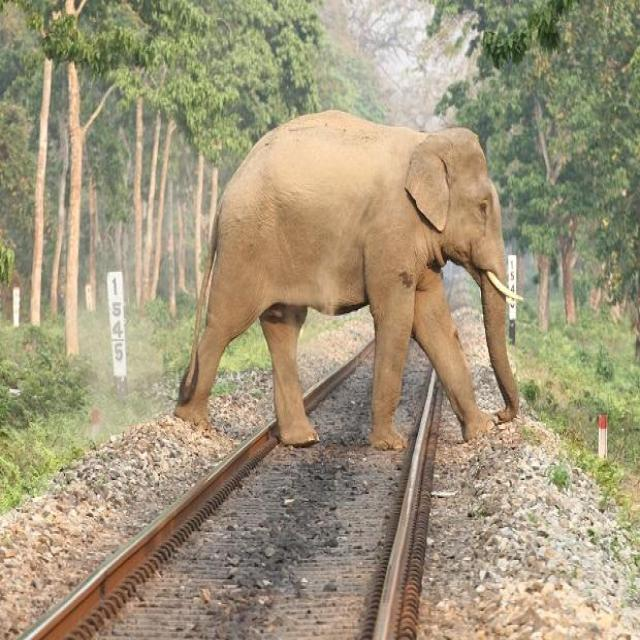Elephant: (178, 104, 532, 475)
